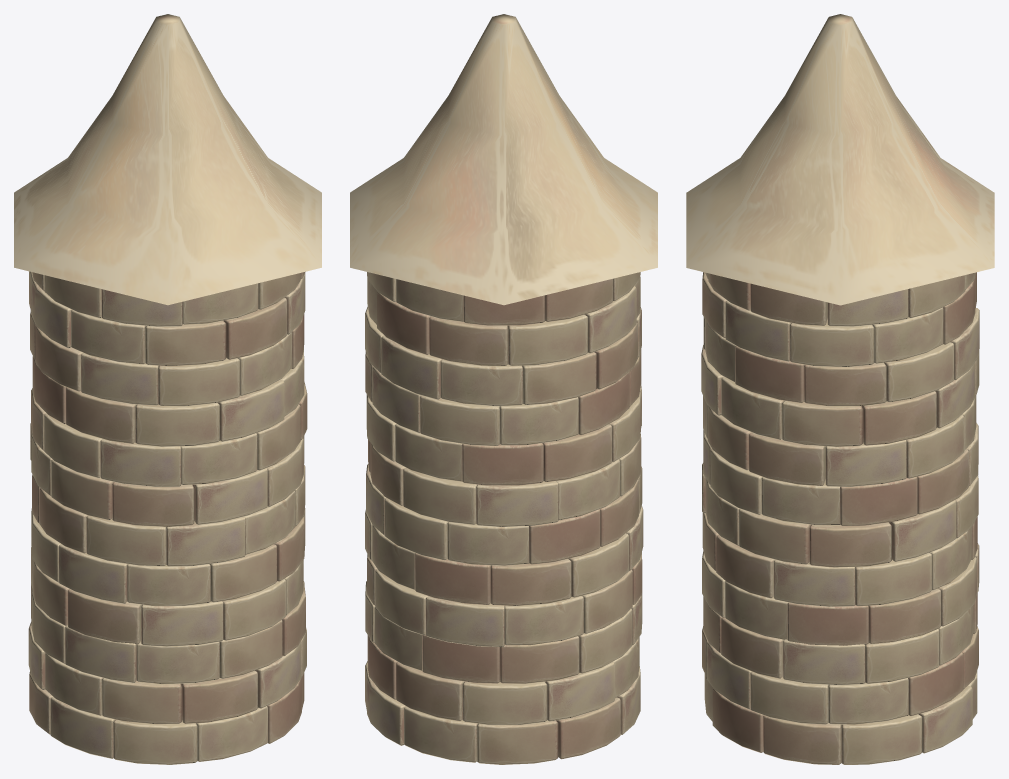
The model's file is tower1.fbx.
3 renders of one model, left to right at view 1: azimuth 30°, elevation 25°; view 2: azimuth 150°, elevation 25°; view 3: azimuth 270°, elevation 25°, orthographic.
Parts seen in each view (by area): view 1: tower2_LOD0; view 2: tower2_LOD0; view 3: tower2_LOD0.
Part boxes in pixels (<box>): tower2_LOD0: <box>14,14,321,764</box>; tower2_LOD0: <box>350,14,657,764</box>; tower2_LOD0: <box>686,14,994,764</box>.
Size of the model in its own units: 7.26 by 15.5 by 6.29.
